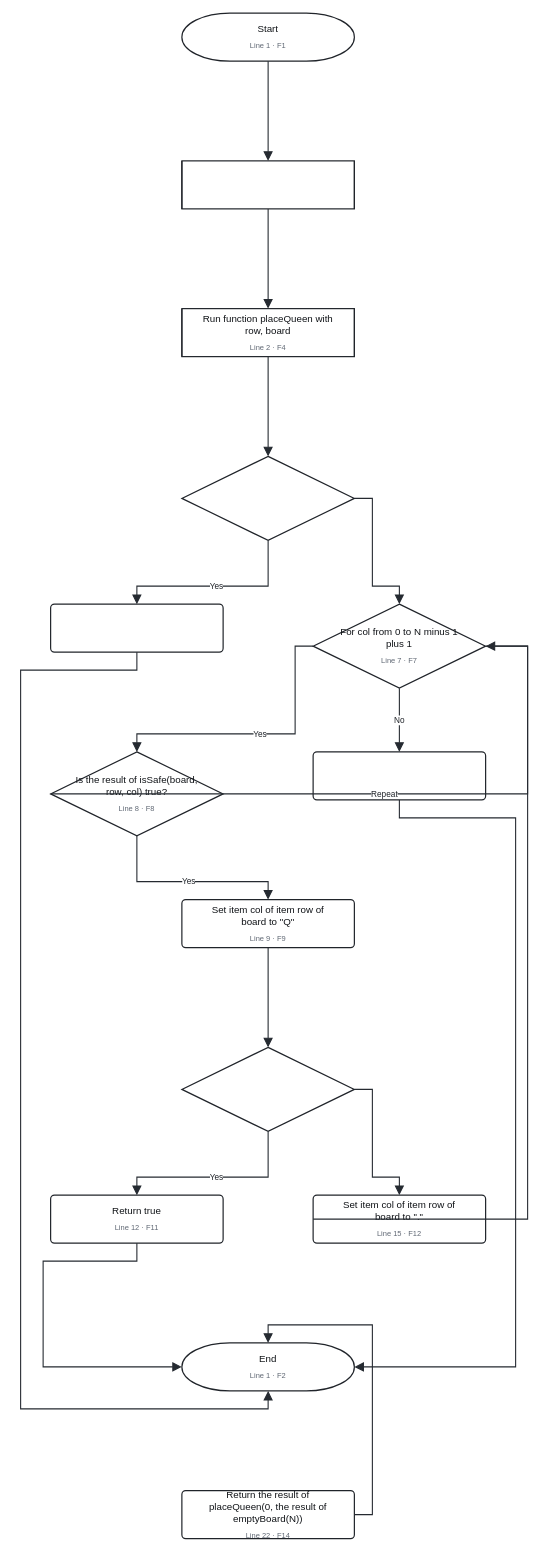
The diagram is 554 pixels wide and 1554 high, and some of its shapes have lost their labels. Each missing label, with the centre of its shape:
Is the result of placeQueen(row plus 1, board) true? Line 11 · F10: pixel 268 1089
Return false Line 19 · F13: pixel 399 775
Return true Line 4 · F6: pixel 136 627
Row is equal to N? Line 3 · F5: pixel 268 498
Run function unnamed_function with N Line 1 · F3: pixel 268 184
